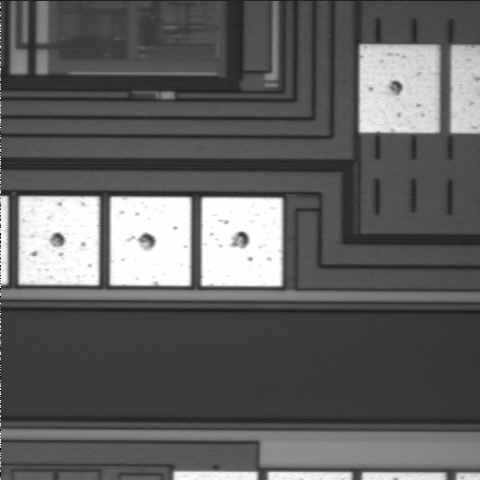pad: (201, 197, 283, 286), (110, 197, 191, 286), (19, 196, 99, 285), (359, 45, 439, 133)
